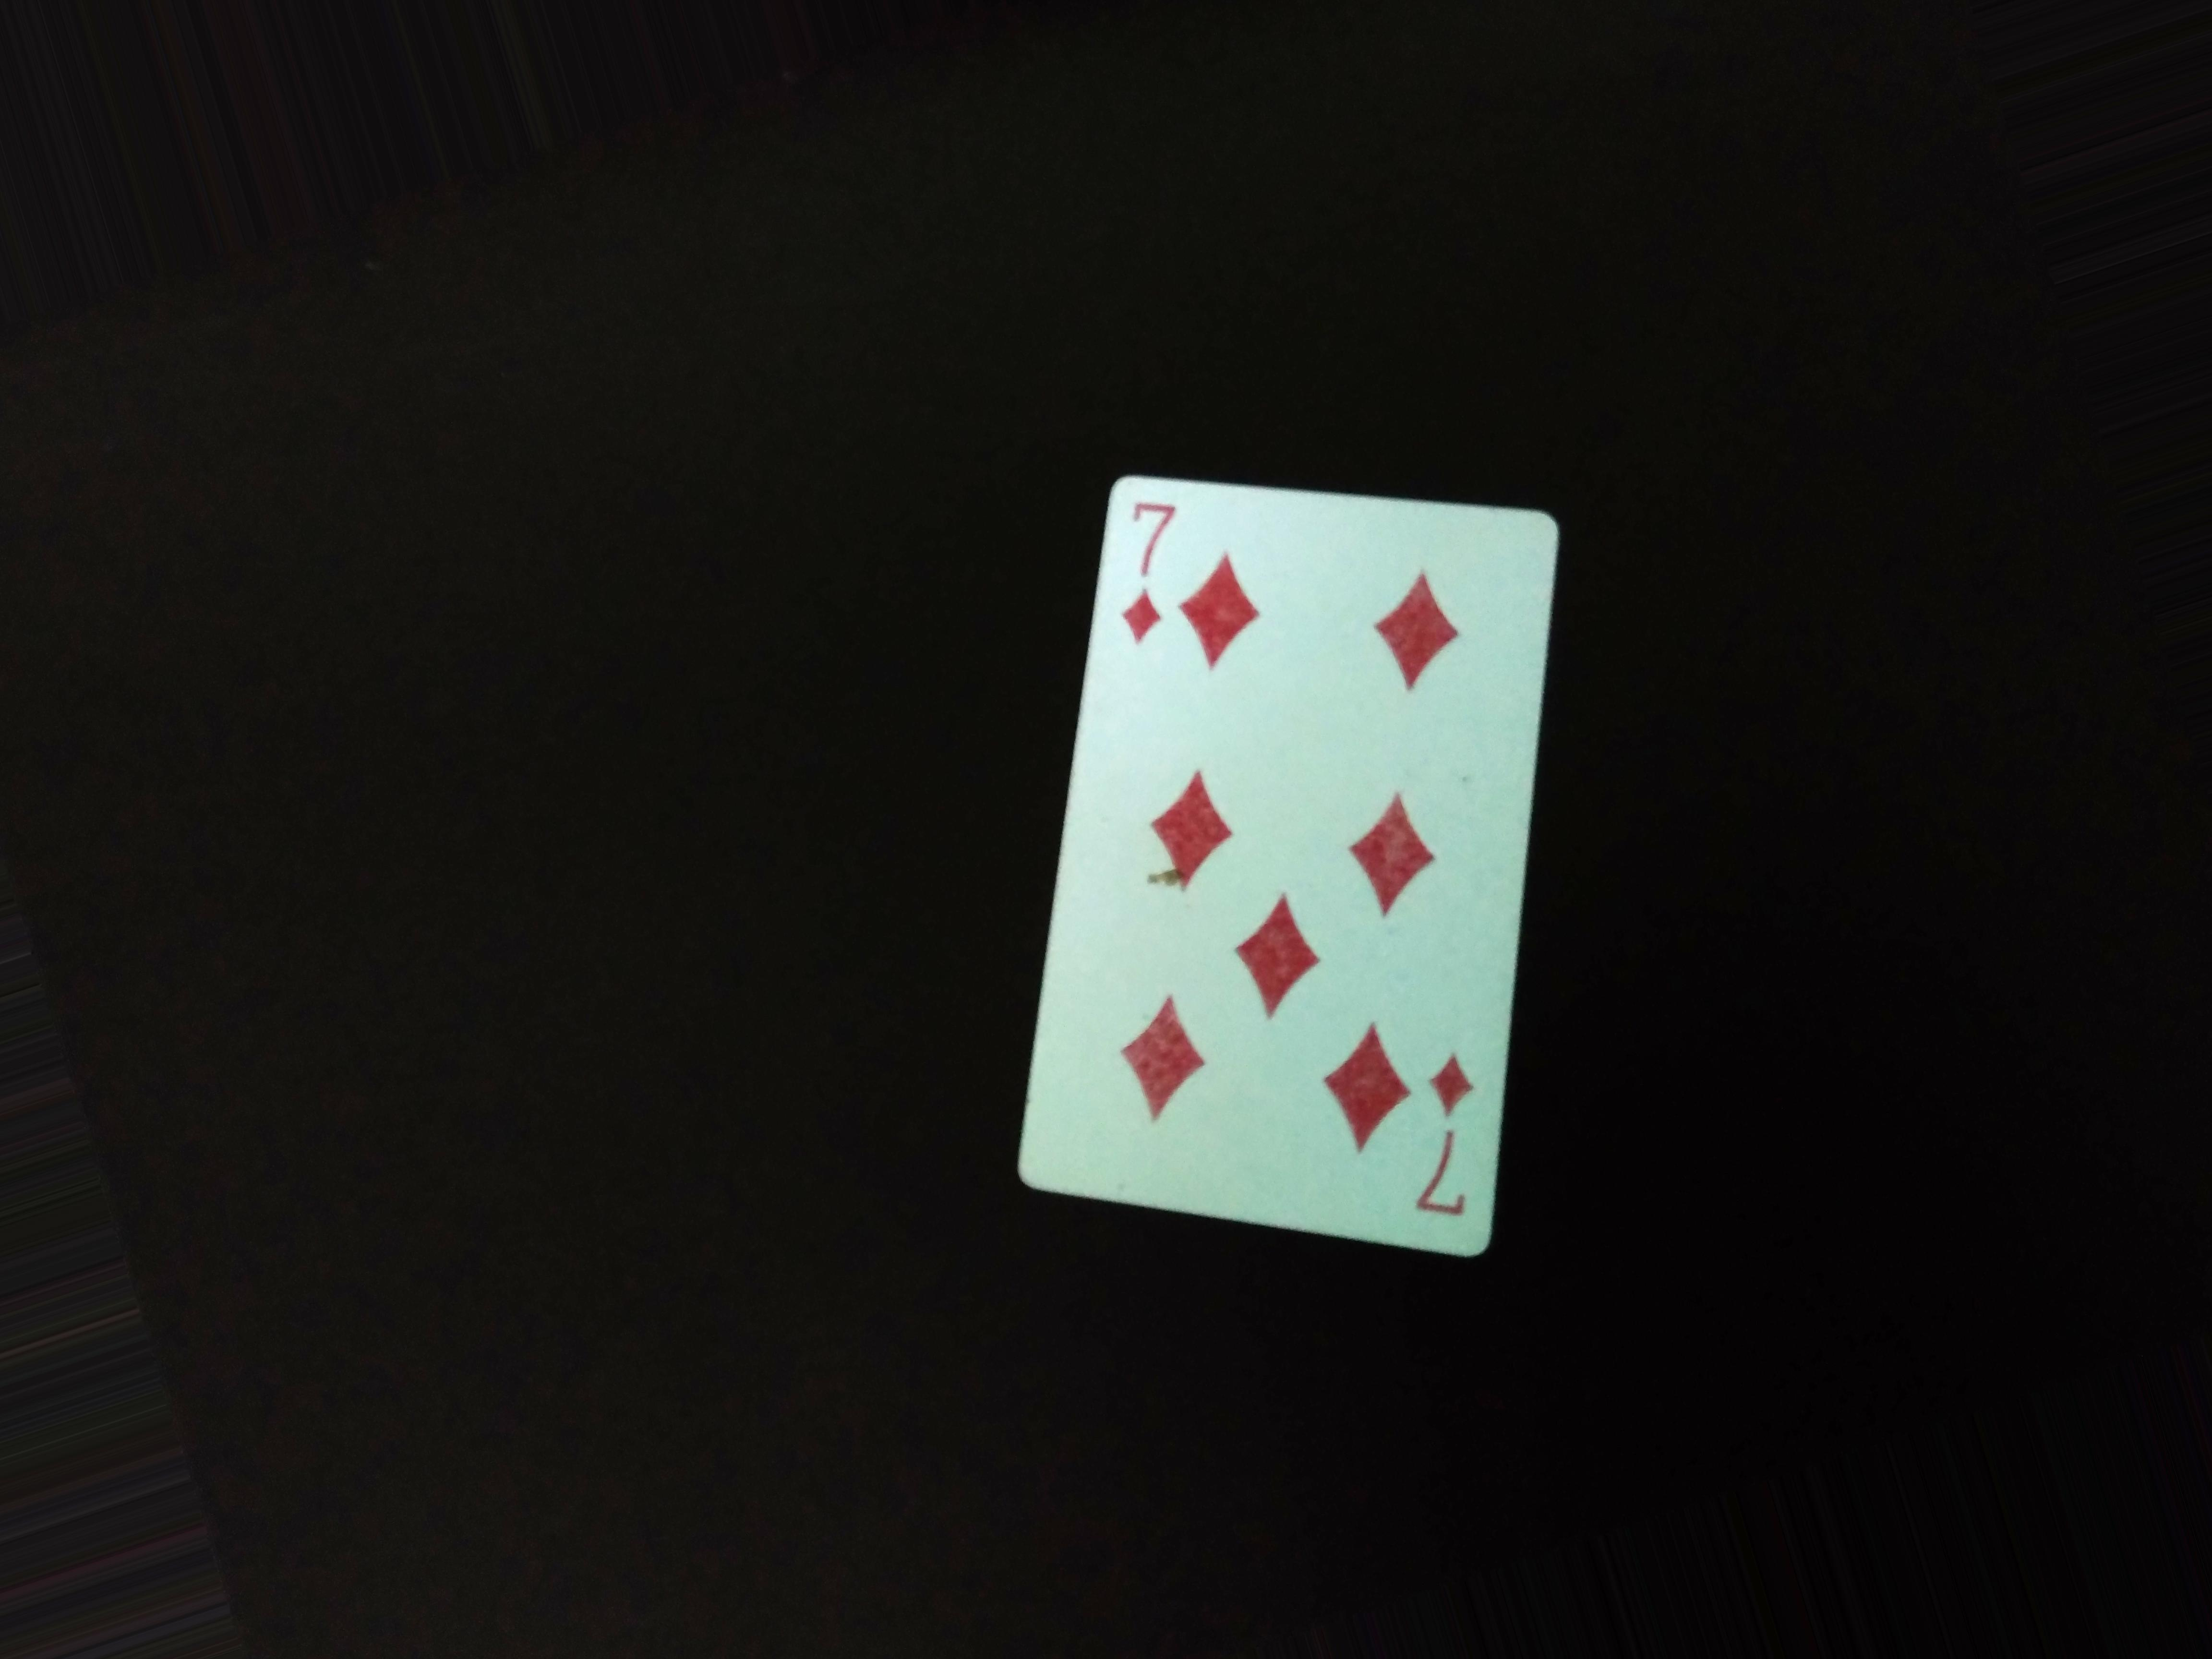7D: (1113, 491, 1188, 657)
